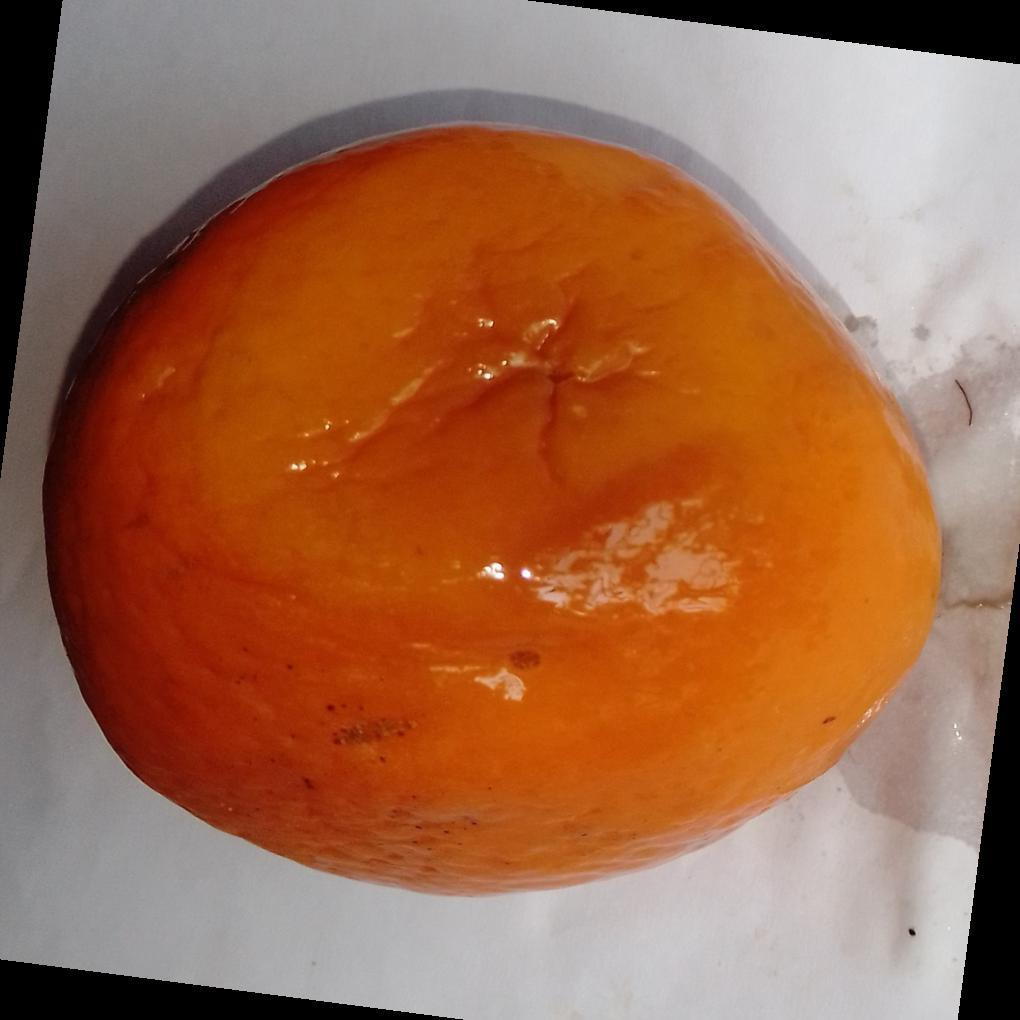FreshOrange: (41, 118, 943, 902)
